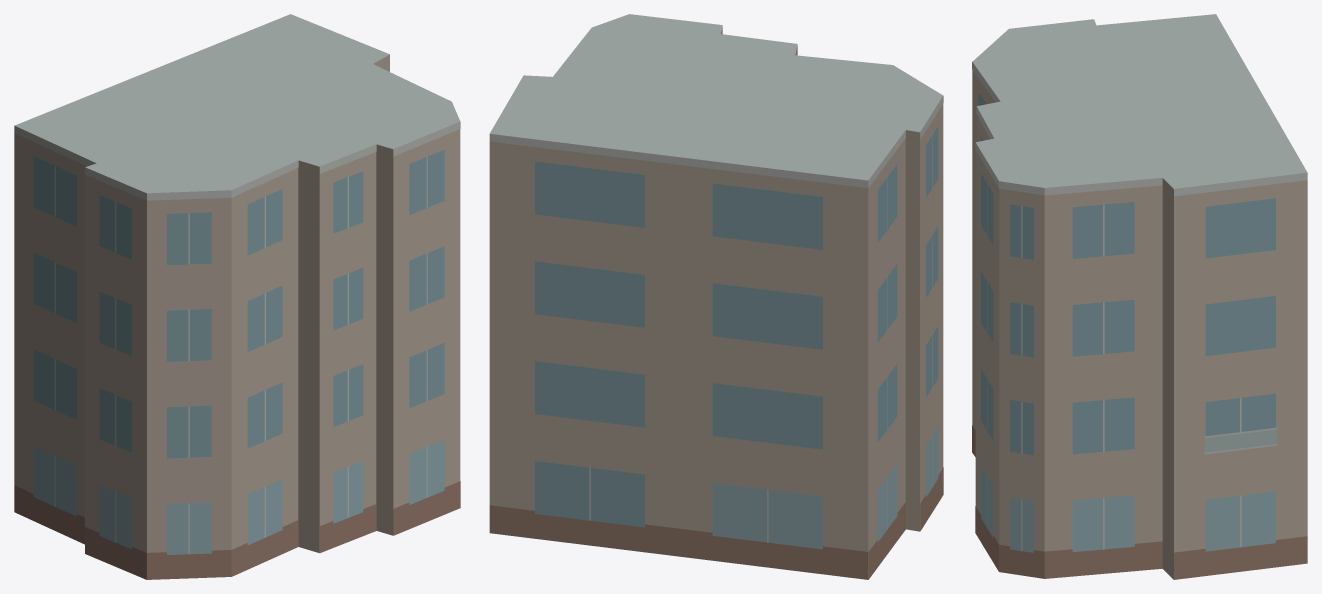
Rendered from survey-upis-32742394.glb.
3 views of the same model, side by side, from view 1: azimuth 30°, elevation 25°; view 2: azimuth 150°, elevation 25°; view 3: azimuth 270°, elevation 25° (orthographic). The views are drawn at different scales.
Visible parts, largest first — view 1: survey-upis-32742394.tmp; view 2: survey-upis-32742394.tmp; view 3: survey-upis-32742394.tmp.
Part boxes in pixels (x1,y1,x2,y2): survey-upis-32742394.tmp: (14, 14, 460, 579); survey-upis-32742394.tmp: (489, 14, 943, 579); survey-upis-32742394.tmp: (972, 14, 1307, 579).
Bounding box in the file's own units: 12.21 × 12.7 × 9.89.
